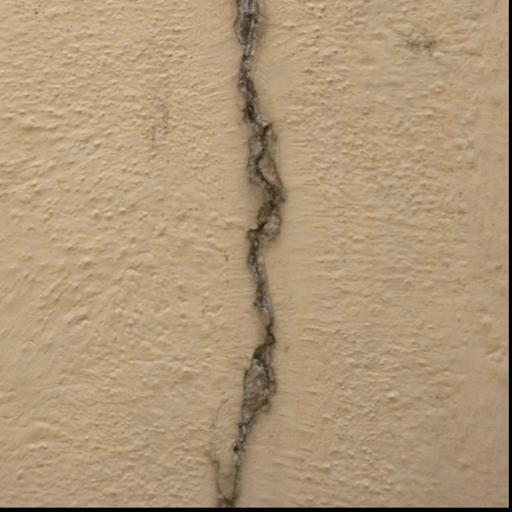minor_crack: (196, 0, 285, 511)
